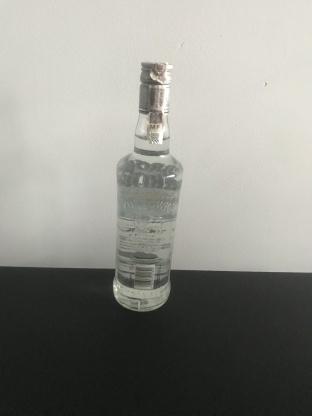nakretka: (137, 58, 174, 114)
